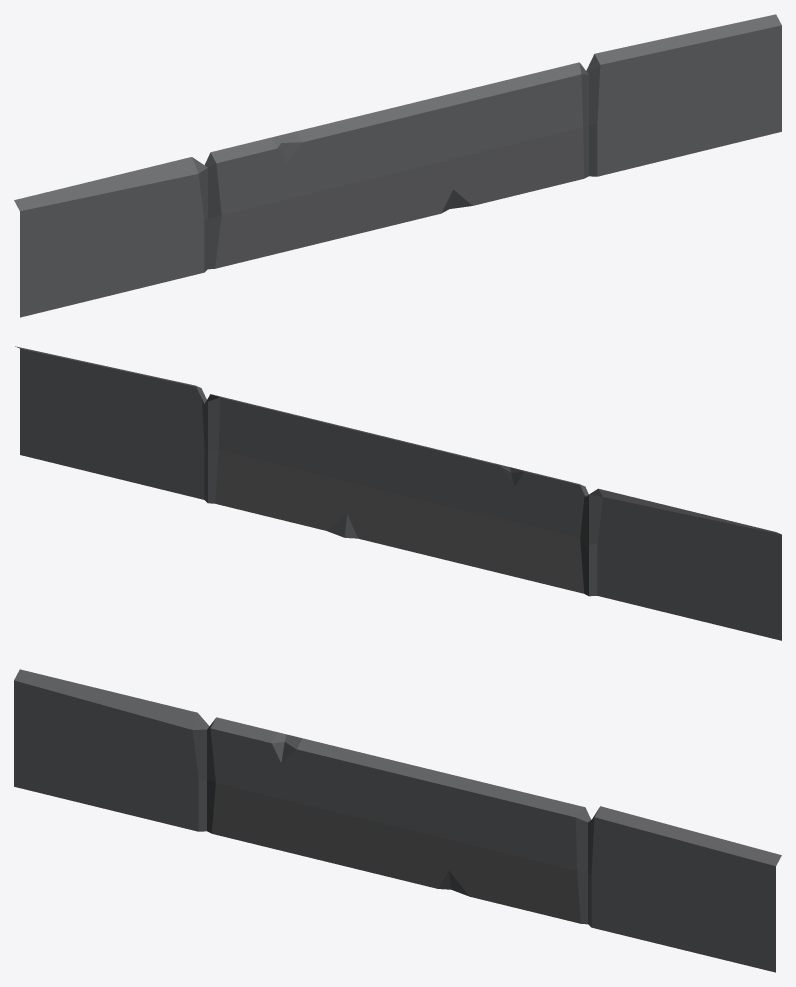
The model's file is SM_Foundation_3m_A.gltf.
3 renders of one model, top to bottom at view 1: azimuth 30°, elevation 25°; view 2: azimuth 150°, elevation 25°; view 3: azimuth 330°, elevation 25°, orthographic.
Parts seen in each view (by area): view 1: SM_Foundation_3m_A; view 2: SM_Foundation_3m_A; view 3: SM_Foundation_3m_A.
Part boxes in pixels (left/top/right/bottom): SM_Foundation_3m_A: left=14, top=14, right=781, bottom=317; SM_Foundation_3m_A: left=15, top=346, right=781, bottom=640; SM_Foundation_3m_A: left=14, top=669, right=781, bottom=972.
Bounding box in the file's own units: 3 × 0.4437 × 0.04.
1 material, 1 textured.
